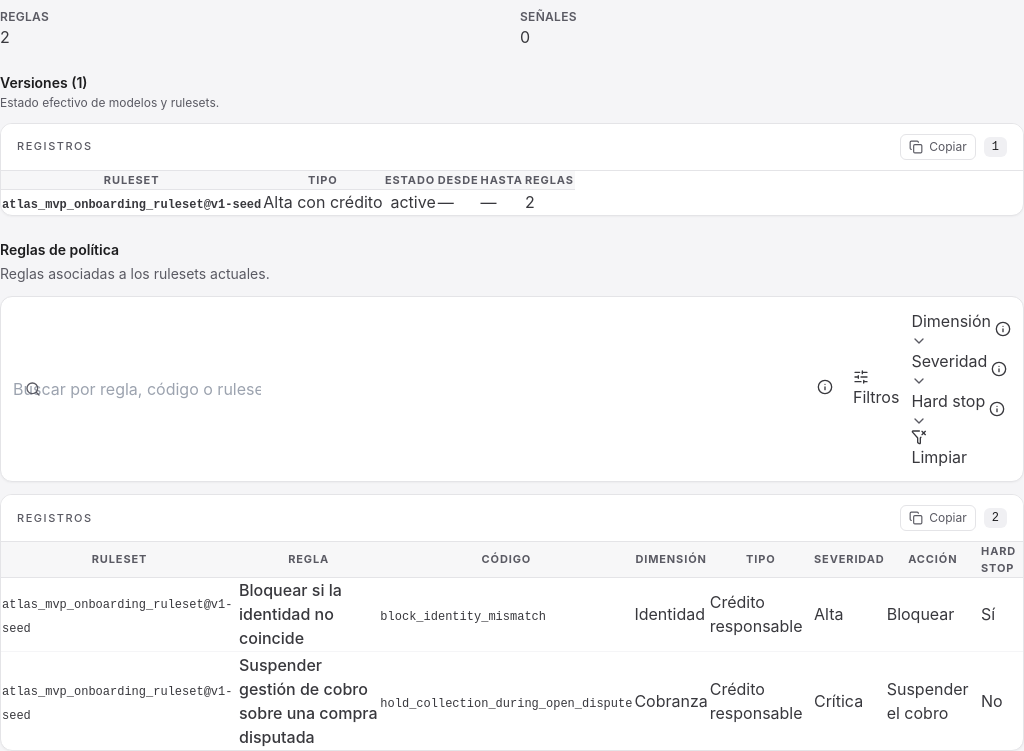
Test: CurrentRiskPolicyPage › filtros que nada satisface dicen que ninguna regla coincide
(page scrolled)
Expected: the text "Suspender el cobro" is shown, [886,652,980,750]
In the field labelled "Buscar por regla, código o ruleset…": point(137, 389) [13,377,261,401], type "zzzz"
(page scrolled)
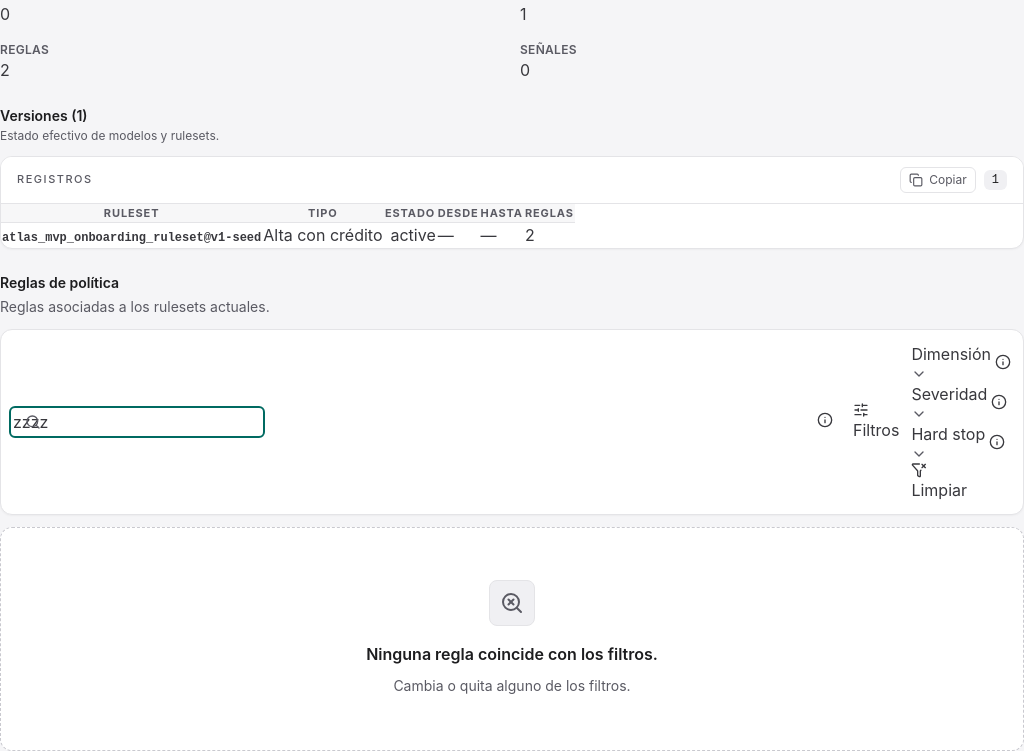
Expected: the heading "Ninguna regla coincide con los filtros." is shown, [366,642,658,666]
